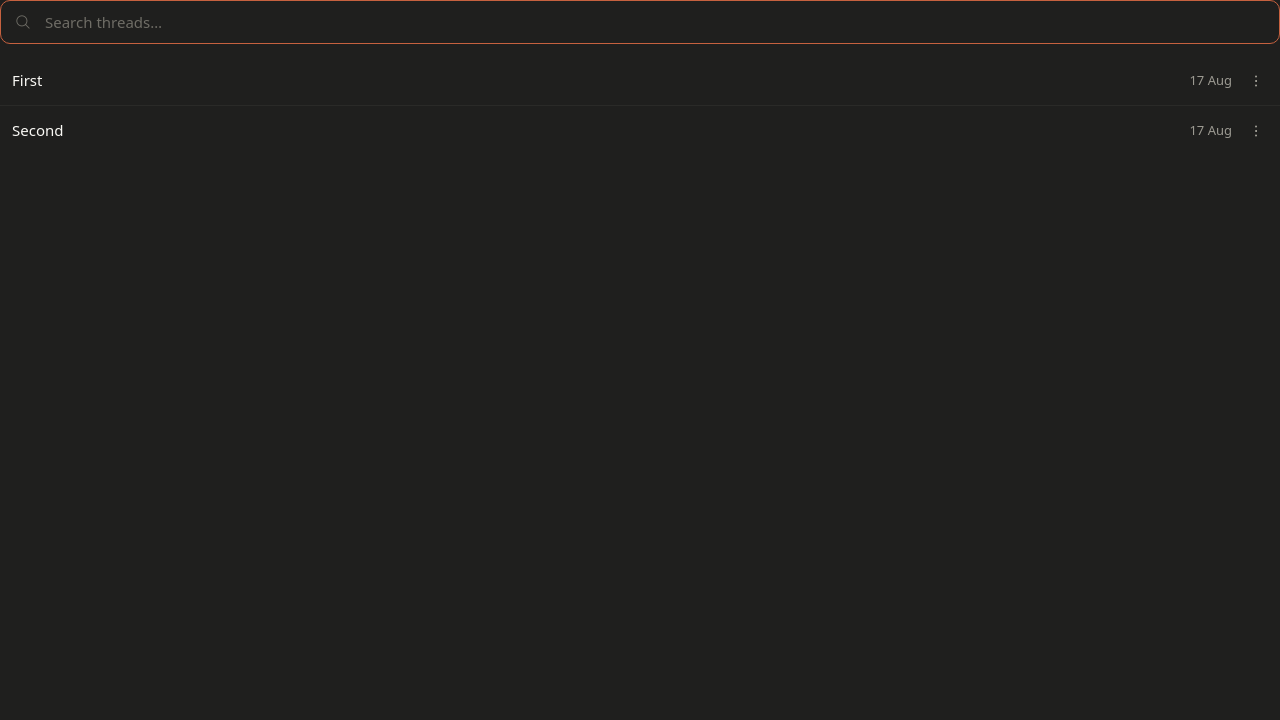
Scenario: ThreadsPage › deletes from the row's menu and tells the shell
Click the button named "Actions for First".
click(1256, 80)  # box [1244,68,1268,92]
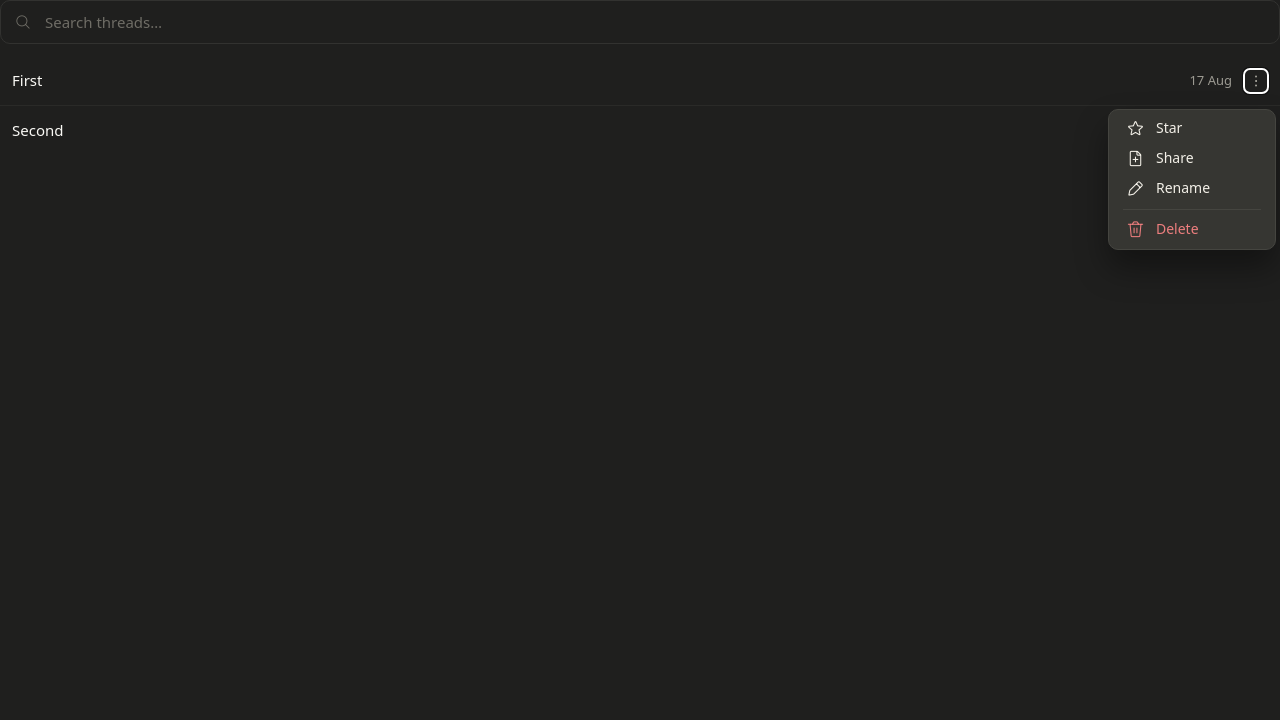
Click the menu item "Delete".
click(1192, 230)  # box [1113,215,1271,245]
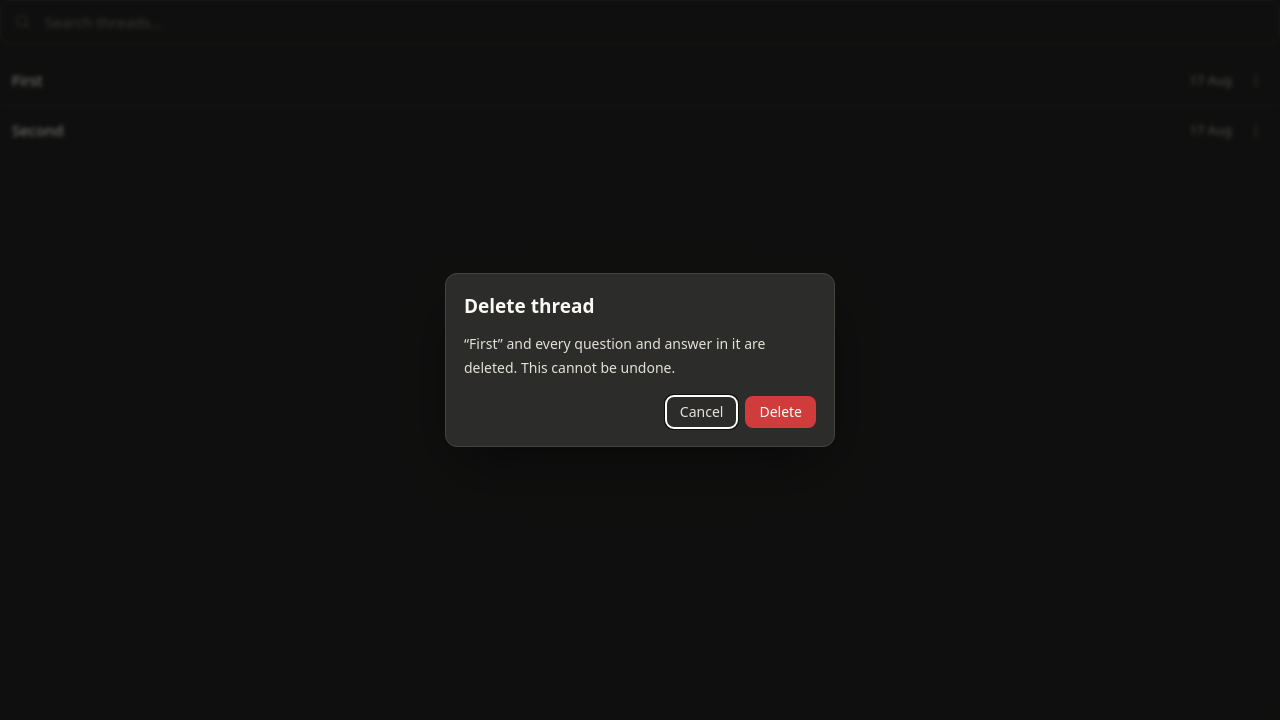
Click the button "Delete".
click(781, 412)  # box [745,396,816,428]
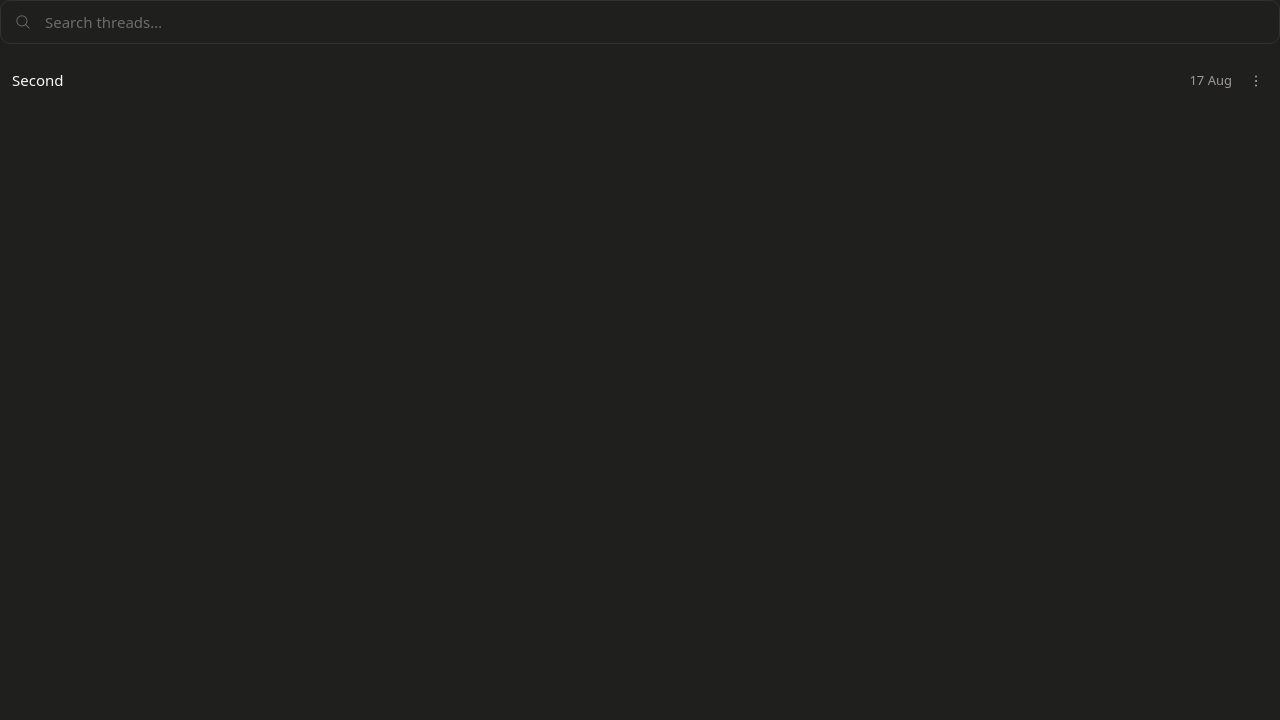
Check: the text "Second" is shown, box [12,69,64,92]
Check: the button "First" is gone
